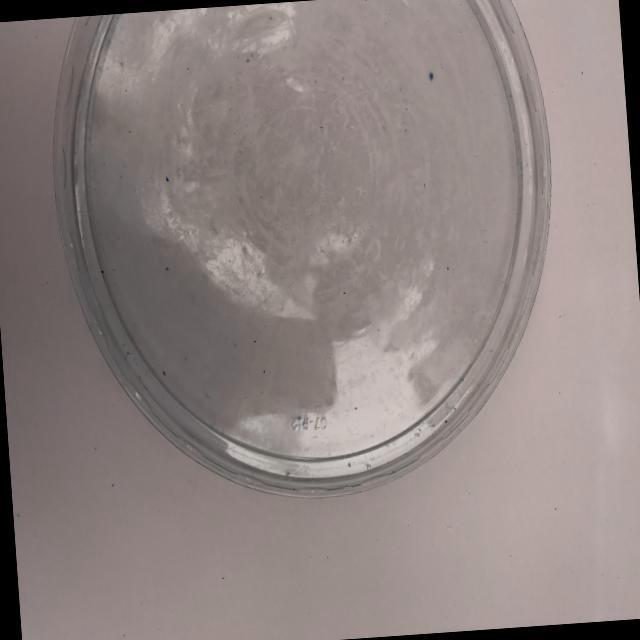plastic: (39, 0, 591, 547)
